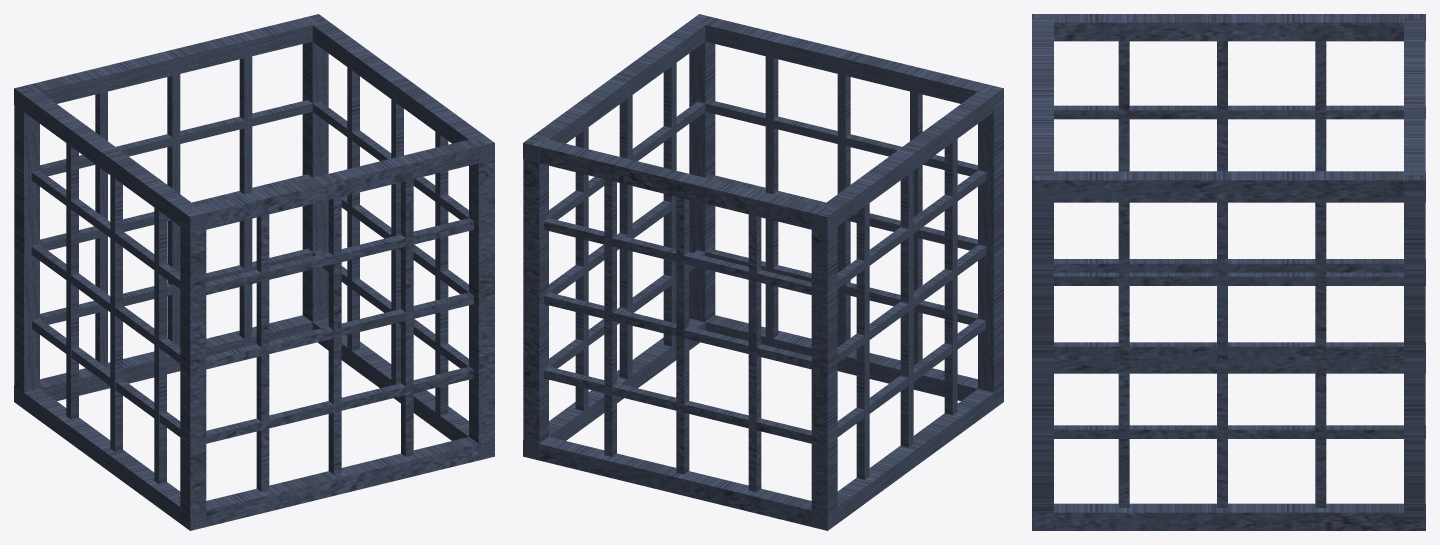
Rendered from Cage.glb.
3 renders of one model, left to right at view 1: azimuth 30°, elevation 25°; view 2: azimuth 150°, elevation 25°; view 3: azimuth 270°, elevation 25°, orthographic. The views are drawn at different scales.
Visible parts, largest first — view 1: Cage; view 2: Cage; view 3: Cage.
Part boxes in pixels (bbox=[...]): Cage: bbox=[14, 14, 494, 530]; Cage: bbox=[523, 14, 1003, 530]; Cage: bbox=[1032, 14, 1425, 530].
Size of the model in its own units: 1.8 by 1.77 by 1.8.
Materials: 1 (1 with a texture image).
